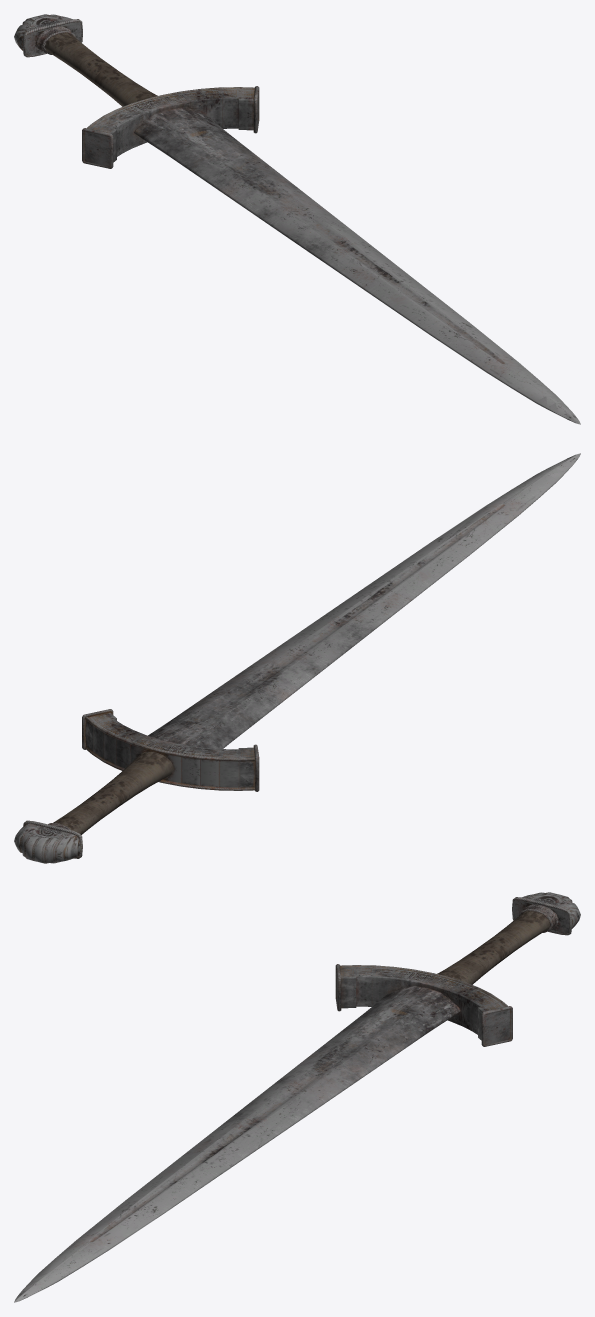
The picture shows the model from 3 angles, top to bottom: view 1: azimuth 30°, elevation 25°; view 2: azimuth 150°, elevation 25°; view 3: azimuth 330°, elevation 25°; orthographic projection.
Visible parts, largest first — view 1: WP_A_0606; view 2: WP_A_0606; view 3: WP_A_0606.
Boxes of the visible parts, box(x1,y1,x2,y2) form: WP_A_0606: box(14, 14, 580, 424); WP_A_0606: box(14, 453, 580, 863); WP_A_0606: box(14, 892, 580, 1302).
Size of the model in its own units: 28.08 by 5.29 by 150.
1 material, 1 textured.
